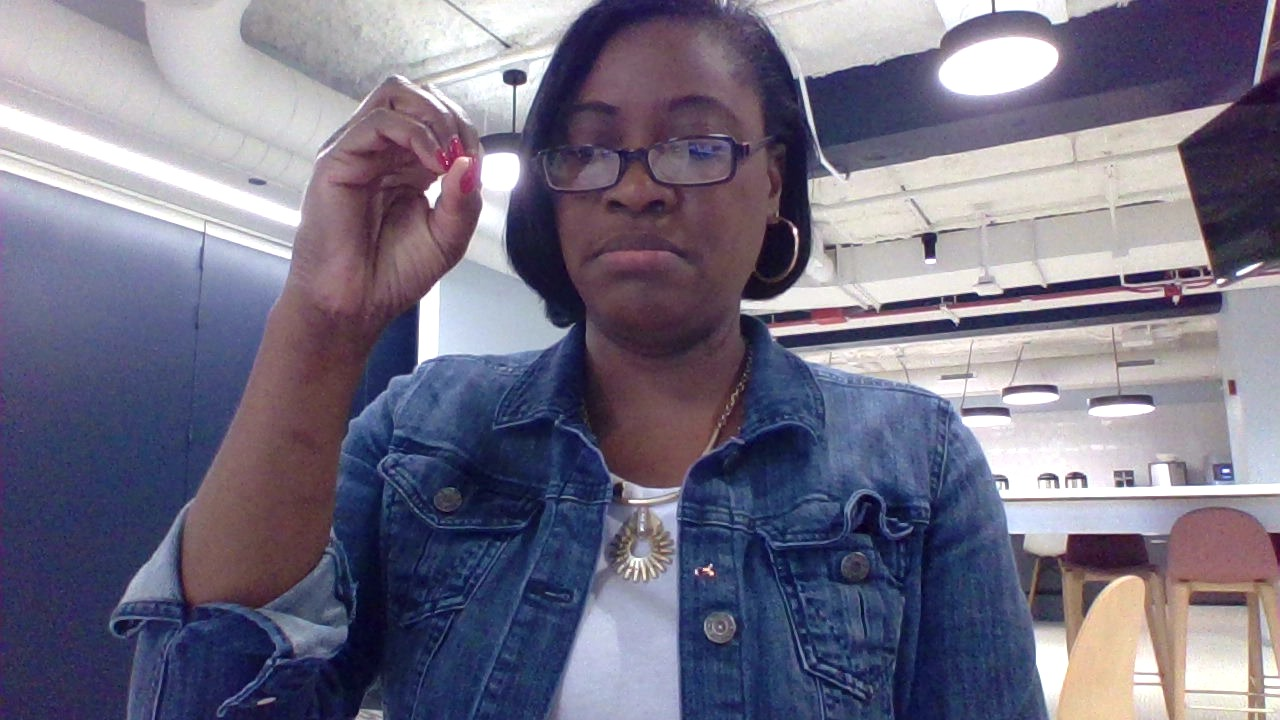o: (267, 59, 511, 360)
